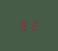nine: (19, 20, 28, 31)
two: (29, 20, 38, 31)
